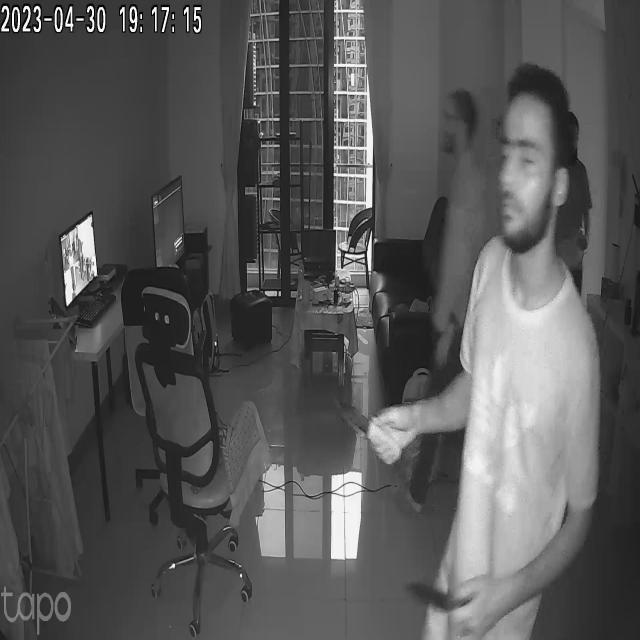Knife: (324, 377, 414, 474), (400, 565, 466, 624)
